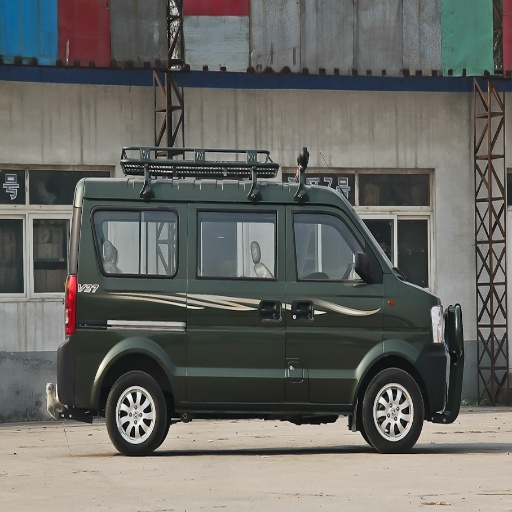back_right_door: (194, 195, 284, 392)
trunk: (66, 290, 182, 402)
